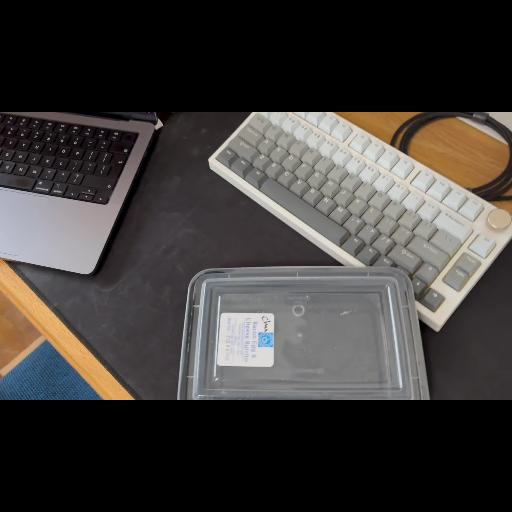rigid_plastic_container: (176, 264, 432, 400)
